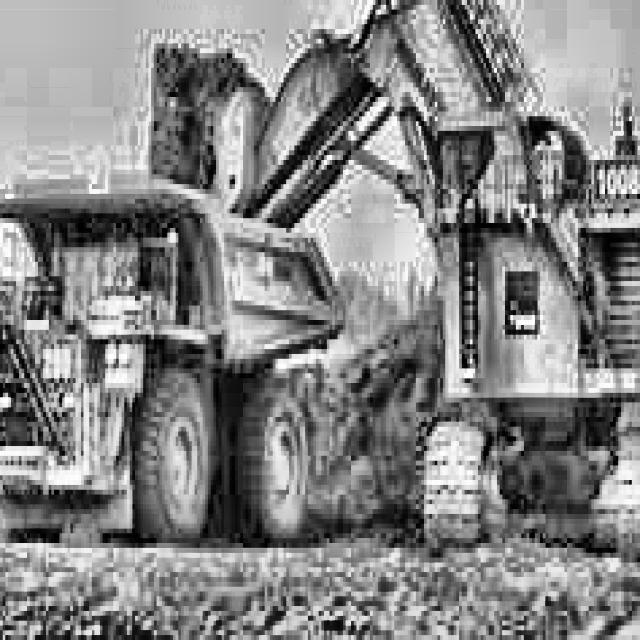dump_truck: (0, 126, 340, 591)
